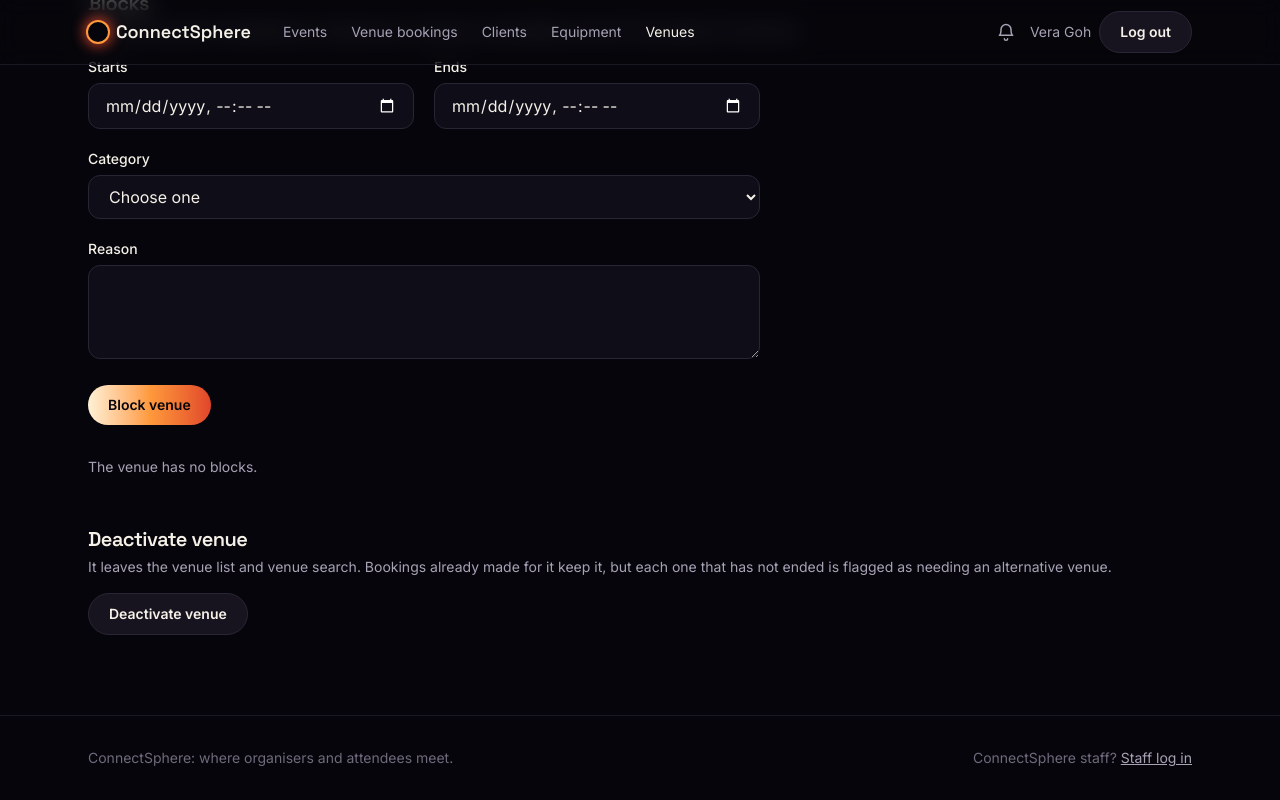
Test: SCRUM-25 deactivating a venue (AC5, SCRUM-92 AC9) › asks why first, and sends nothing when the venue is kept
(page scrolled)
Click the button "Deactivate venue".
click(168, 614)  # box [88,593,248,635]
(page scrolled)
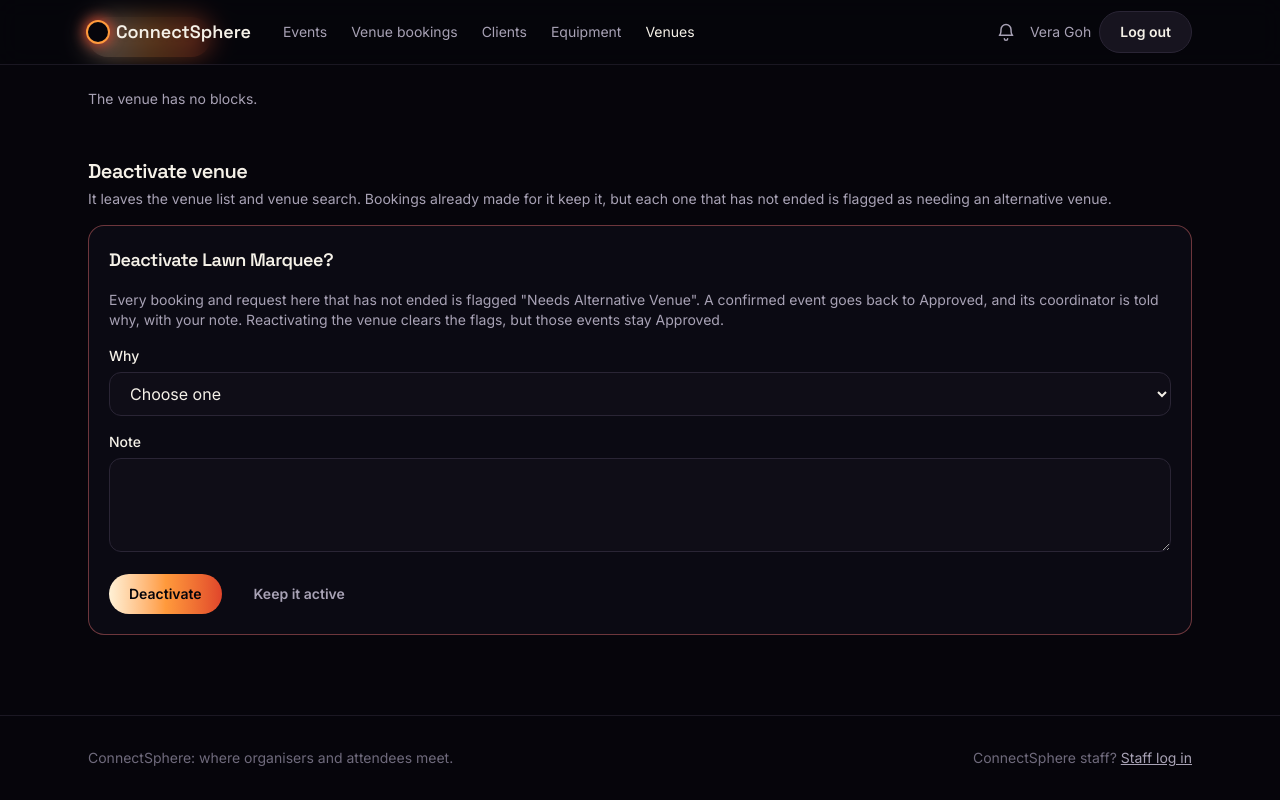
Click the button "Keep it active".
click(299, 594)  # box [234,574,365,614]
(page scrolled)
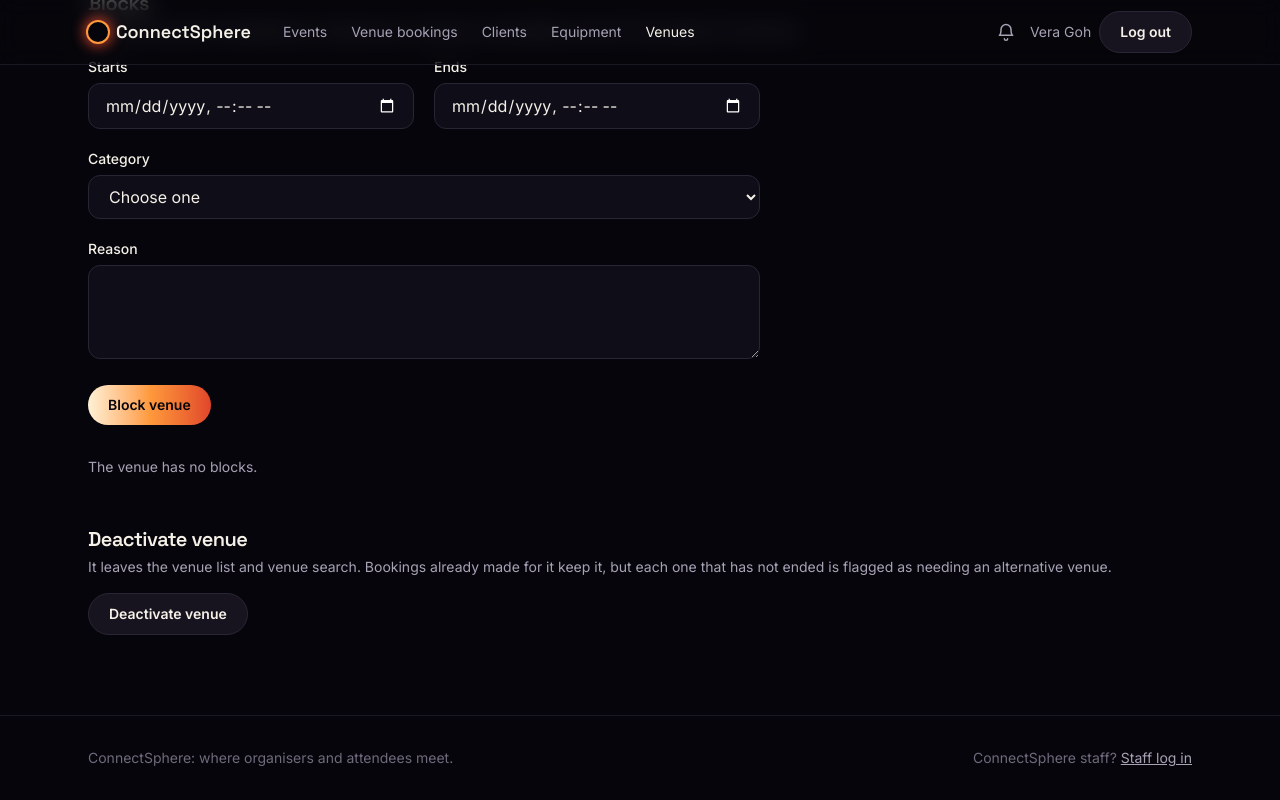
Result: the text "Deactivate Lawn Marquee?" is gone
Result: the button "Deactivate venue" is shown at [88,593,248,635]
